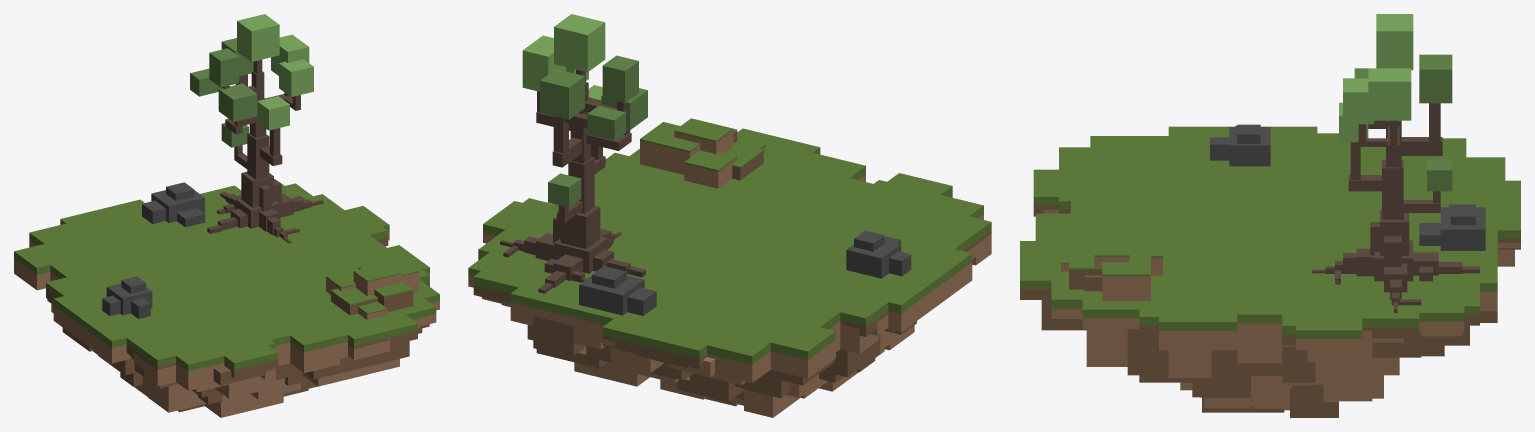
The model's file is energetic-dao-plot.glb.
3 views of the same model, side by side, from view 1: azimuth 30°, elevation 25°; view 2: azimuth 150°, elevation 25°; view 3: azimuth 270°, elevation 25° (orthographic). The views are drawn at different scales.
Parts seen in each view (by area): view 1: plot.001; view 2: plot.001; view 3: plot.001.
Boxes of the visible parts, <box> form: plot.001: <box>14,14,439,417</box>; plot.001: <box>468,14,991,417</box>; plot.001: <box>1020,14,1520,417</box>.
Bounding box in the file's own units: 24.6 × 22.8 × 25.6.
1 material, 1 textured.
